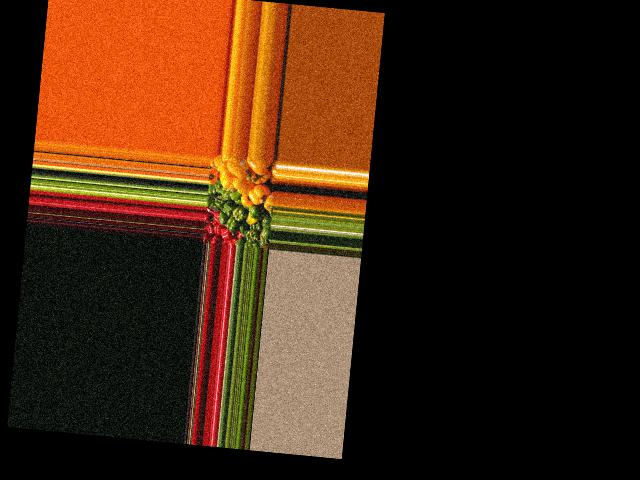bell_pepper: (258, 232, 271, 249)
